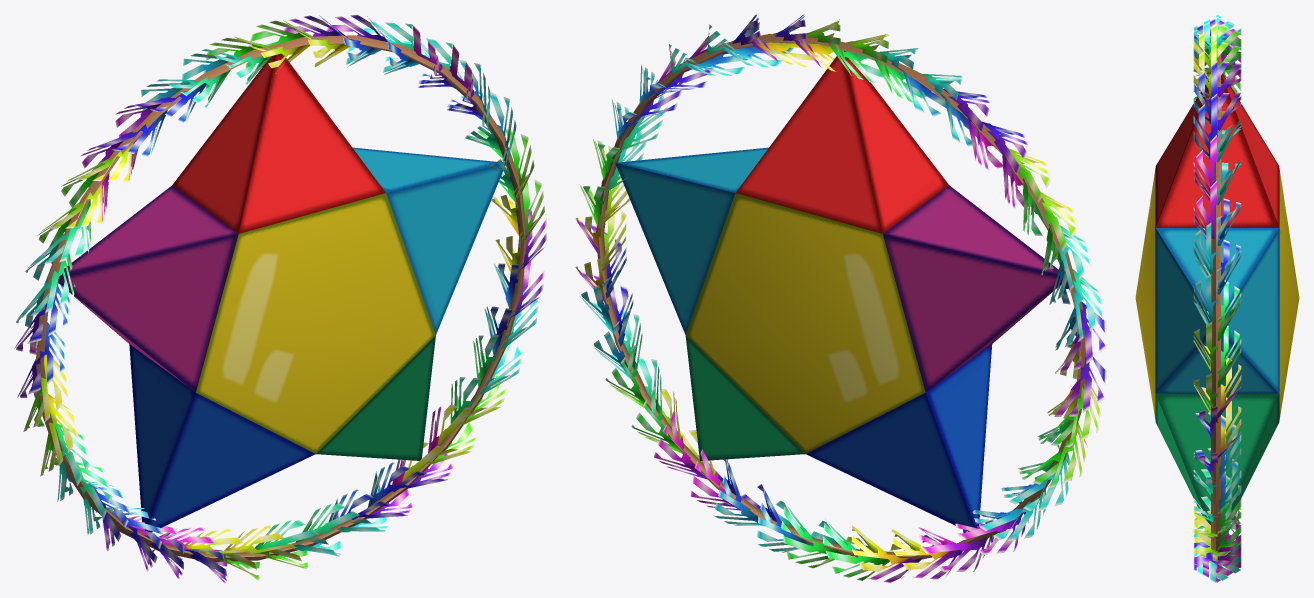
File: Prop_KomPkay.fbx
3 renders of one model, left to right at view 1: azimuth 30°, elevation 25°; view 2: azimuth 150°, elevation 25°; view 3: azimuth 270°, elevation 25°, orthographic. The views are drawn at different scales.
Parts seen in each view (by area): view 1: Prop_KomPkay; view 2: Prop_KomPkay; view 3: Prop_KomPkay.
Part boxes in pixels (box(x1,y1,x2,y2)): Prop_KomPkay: box(14, 14, 546, 583); Prop_KomPkay: box(575, 14, 1106, 582); Prop_KomPkay: box(1135, 14, 1299, 582).
Bounding box in the file's own units: 90.4 × 90.4 × 26.03.
